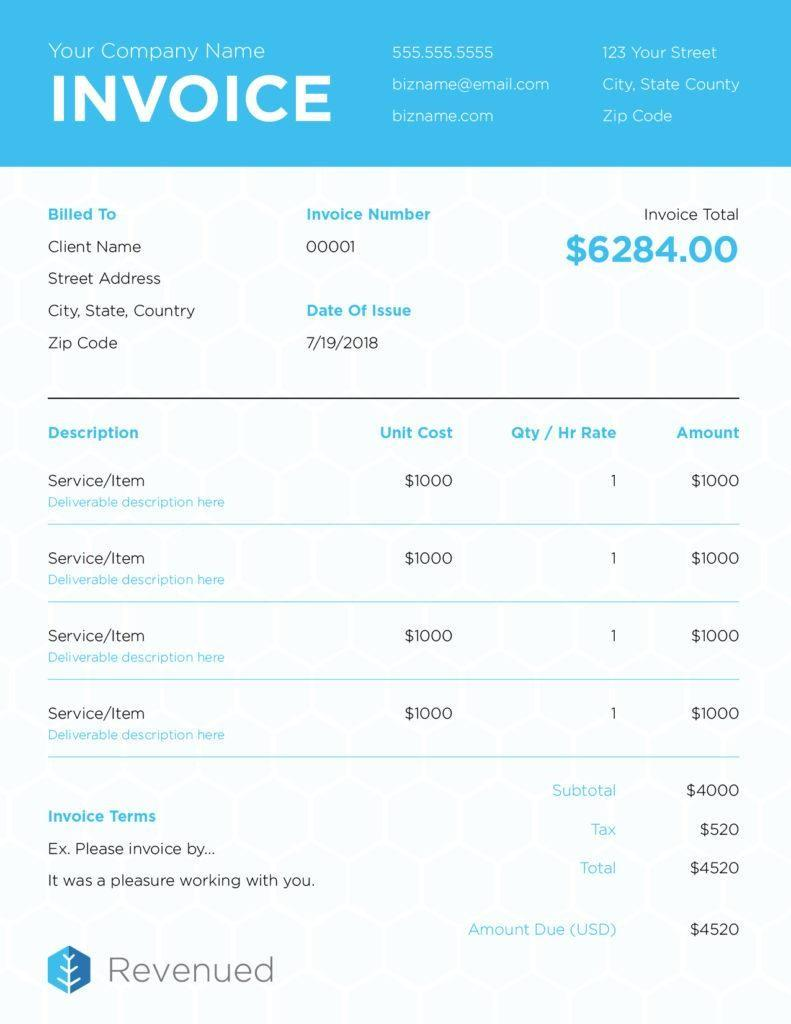ROI: (41, 417, 761, 747), (463, 771, 760, 939), (37, 799, 338, 914), (41, 195, 201, 367), (290, 202, 457, 364), (36, 33, 347, 68)
